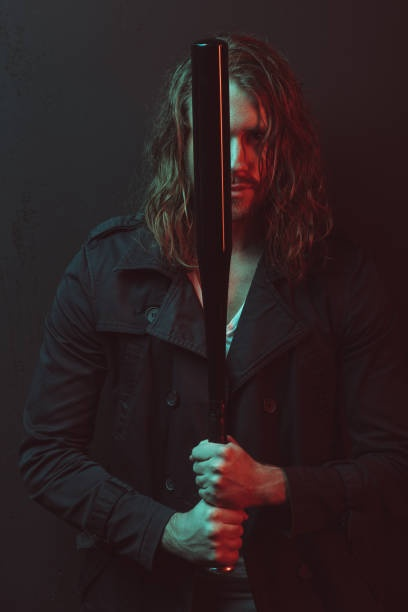bita: (189, 35, 244, 563)
